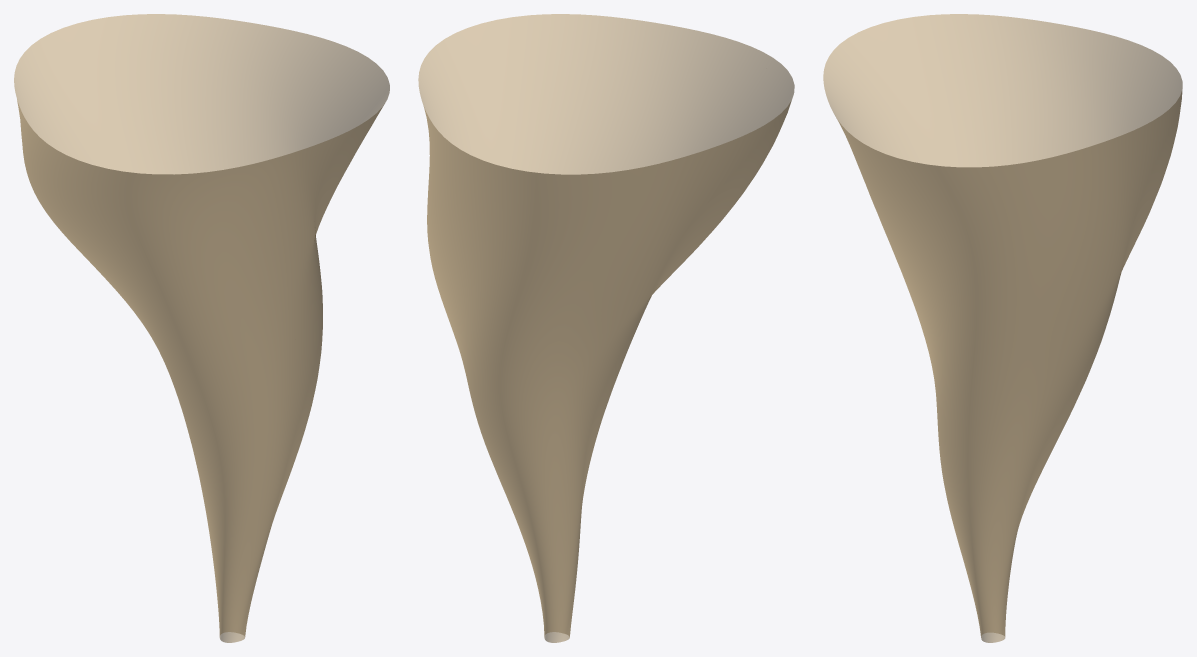
File: thunder_funnel.glb
The picture shows the model from 3 angles, left to right: view 1: azimuth 30°, elevation 25°; view 2: azimuth 150°, elevation 25°; view 3: azimuth 270°, elevation 25°; orthographic projection. The views are drawn at different scales.
Parts seen in each view (by area): view 1: ThunderFunnel; view 2: ThunderFunnel; view 3: ThunderFunnel.
Boxes of the visible parts, left/top/right/bottom form: ThunderFunnel: left=14, top=14, right=389, bottom=642; ThunderFunnel: left=418, top=14, right=794, bottom=642; ThunderFunnel: left=823, top=14, right=1182, bottom=642.
Bounding box in the file's own units: 8.38 × 13.5 × 8.29.
